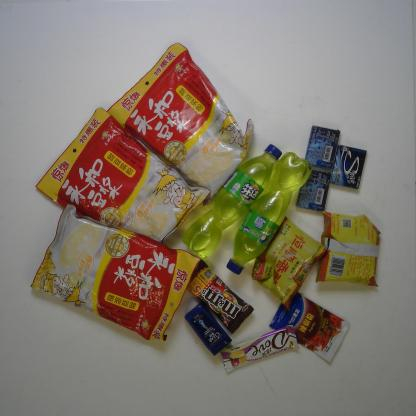Chocolate: (186, 257, 255, 335), (220, 324, 300, 373)
Drink: (180, 143, 283, 259), (226, 151, 314, 276)
Gum: (328, 144, 368, 190), (304, 124, 341, 172), (295, 169, 332, 212)
Instant Drink: (33, 105, 211, 246), (106, 41, 255, 208), (30, 202, 201, 343)
Personal Hygiene: (184, 301, 233, 356)
Seasoner: (250, 216, 328, 313), (268, 292, 351, 363), (314, 210, 382, 288)
